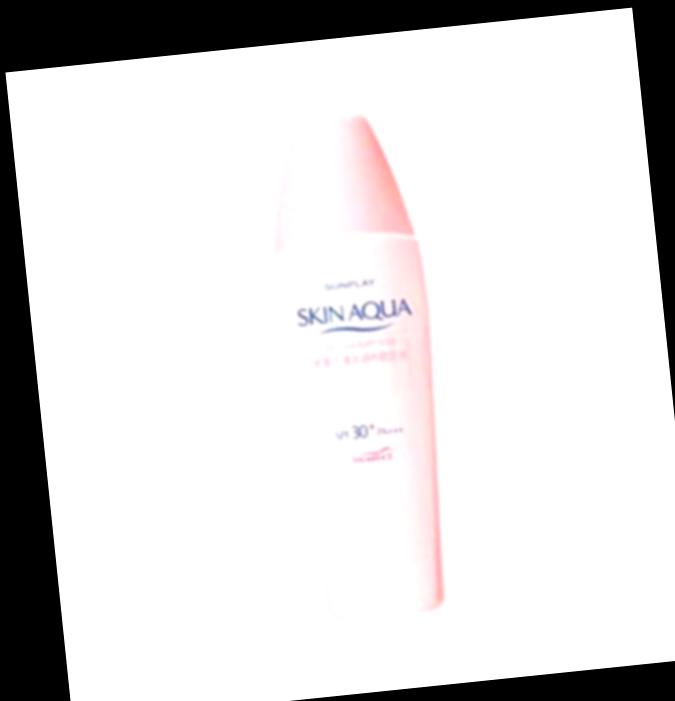cosmetic: (260, 105, 458, 628)
